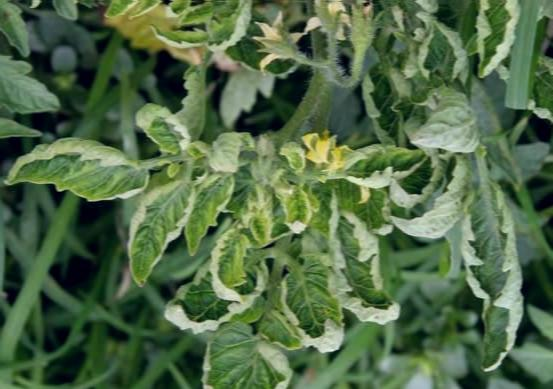Tomato leaf yellow virus: (317, 206, 415, 337), (0, 129, 162, 207), (161, 228, 272, 340), (119, 175, 205, 288), (207, 280, 293, 389), (275, 249, 356, 360), (464, 0, 522, 76), (334, 145, 431, 186), (278, 174, 314, 231)
